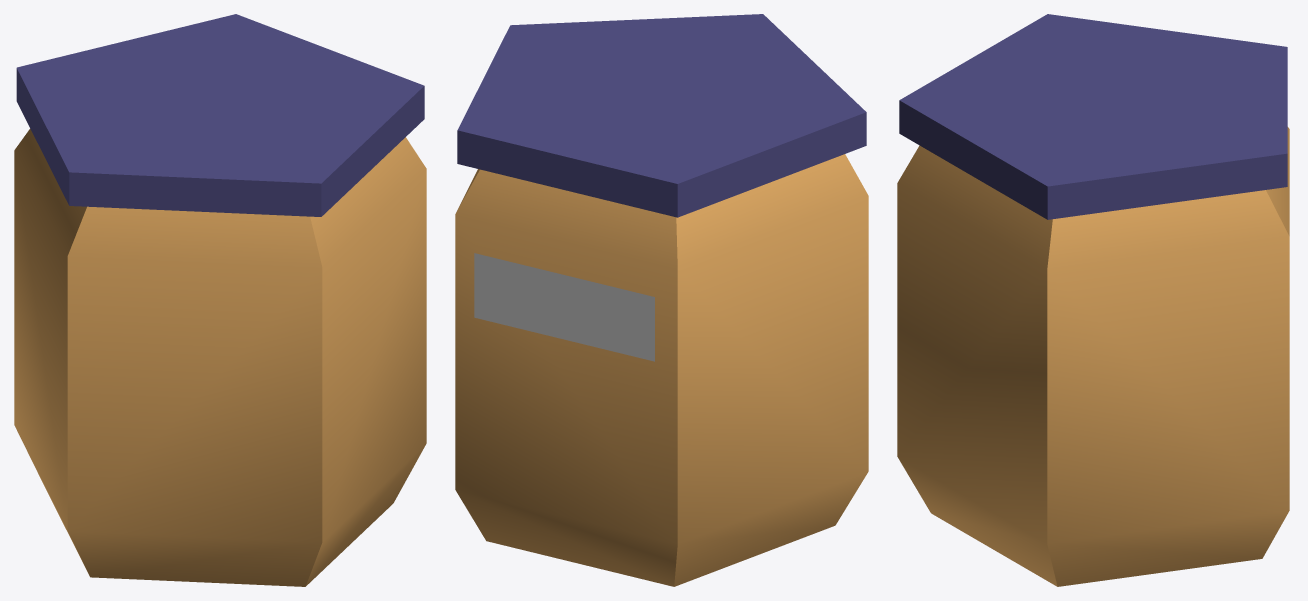
3 views of the same model, side by side, from view 1: azimuth 30°, elevation 25°; view 2: azimuth 150°, elevation 25°; view 3: azimuth 270°, elevation 25° (orthographic).
Parts seen in each view (by area): view 1: Mayonnaise_01; view 2: Mayonnaise_01; view 3: Mayonnaise_01.
Boxes of the visible parts, x1,y1,x2,y2 form: Mayonnaise_01: [14, 14, 426, 586]; Mayonnaise_01: [455, 14, 868, 586]; Mayonnaise_01: [897, 14, 1289, 586].
Bounding box in the file's own units: 7.61 × 8.41 × 7.31.
1 material, 1 textured.
